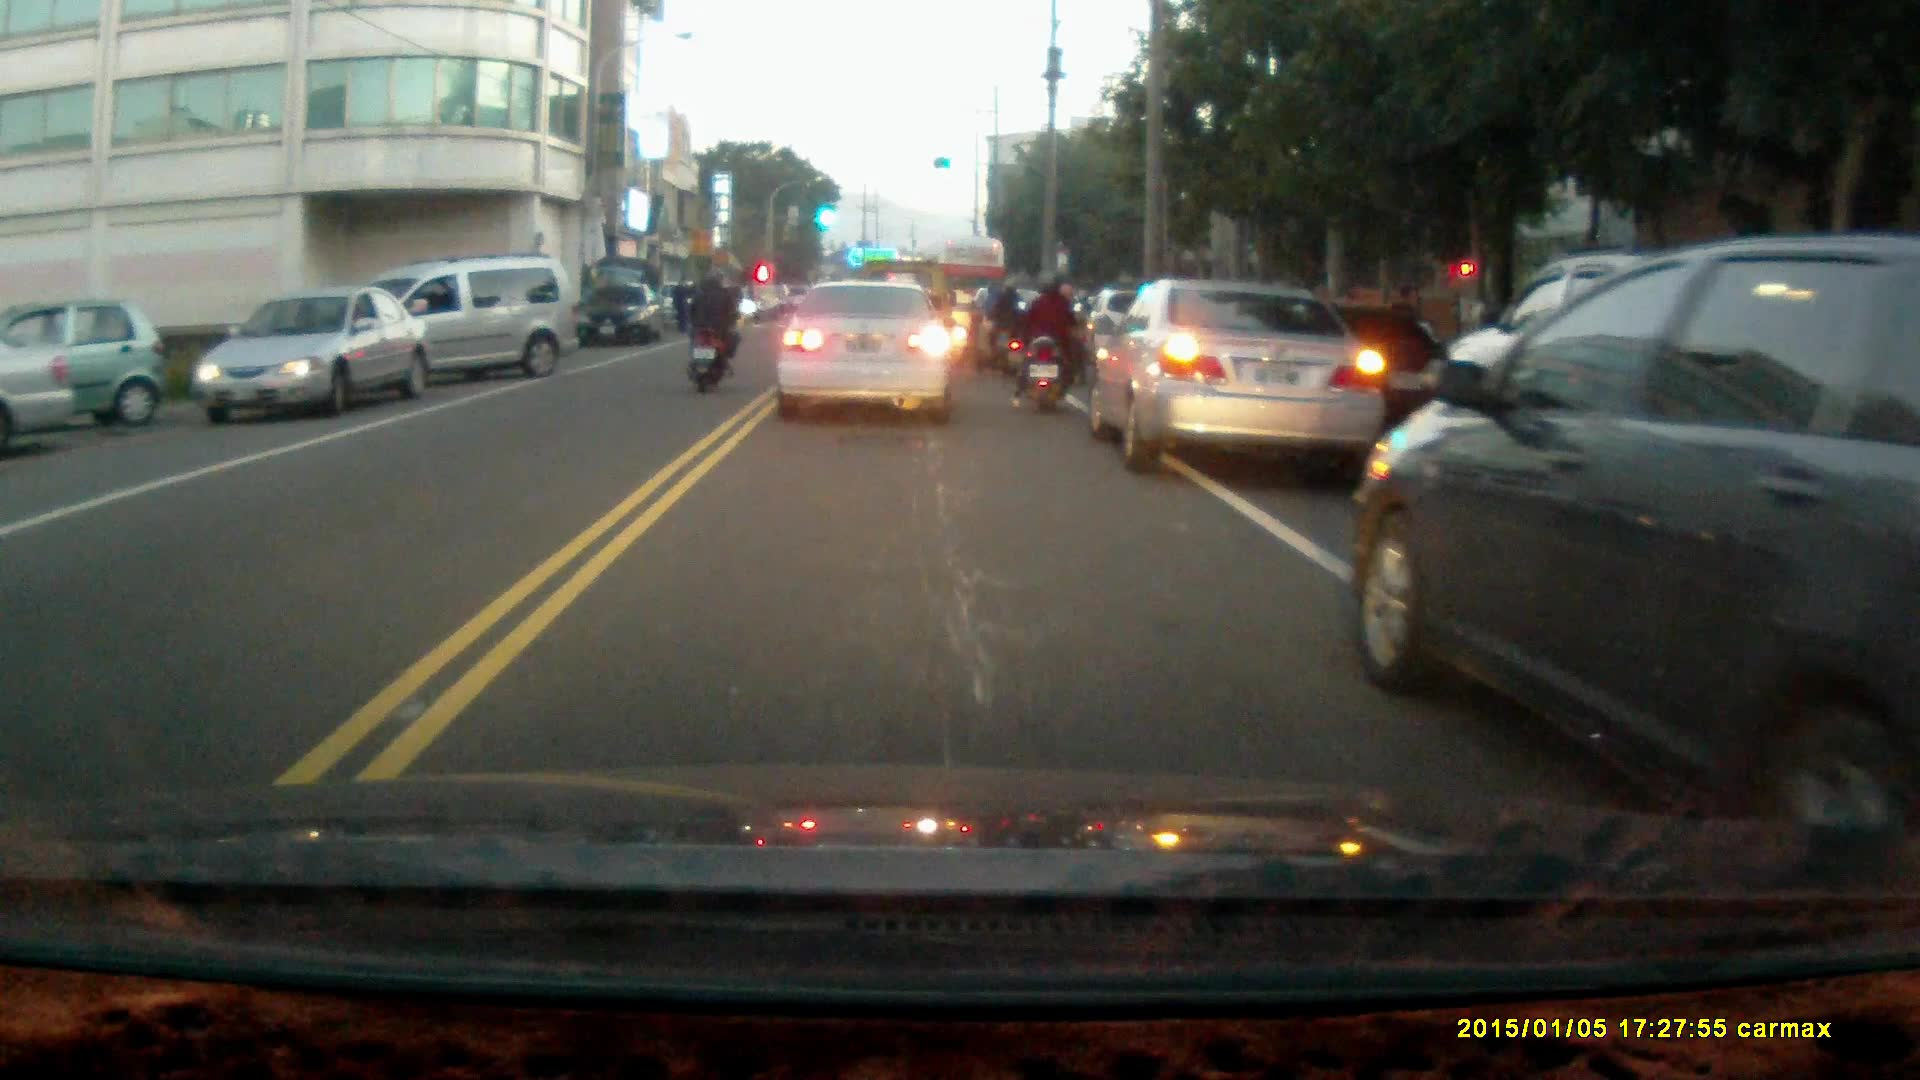pedestrian: (670, 276, 694, 335)
rider: (1010, 268, 1085, 415), (682, 271, 740, 392), (966, 272, 1024, 379)
vehicle: (1340, 232, 1920, 846), (1442, 251, 1920, 557), (1082, 274, 1386, 473), (312, 257, 577, 402), (199, 290, 431, 425), (780, 285, 955, 424), (1, 296, 169, 432), (1, 337, 81, 455), (568, 283, 666, 350)
